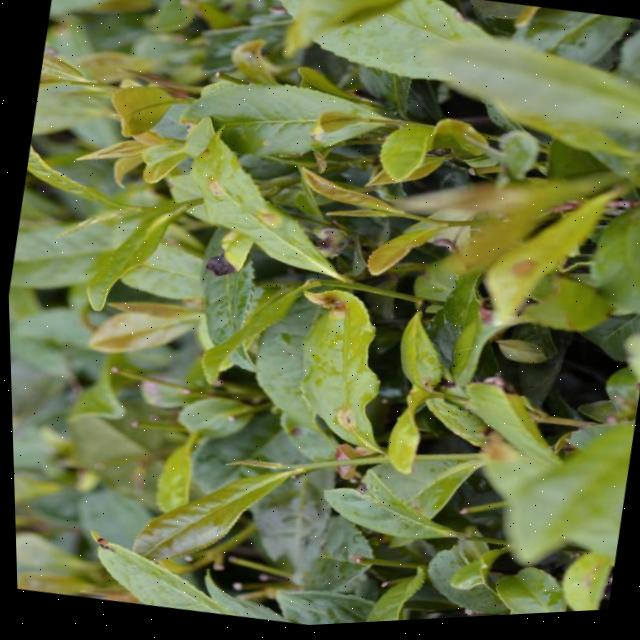Tea cake: (327, 406, 357, 437)
